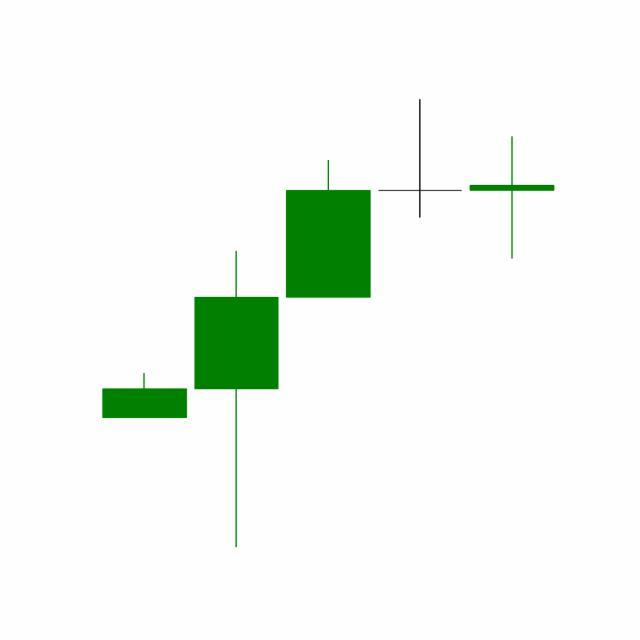Spinning Top: (374, 98, 468, 220)
